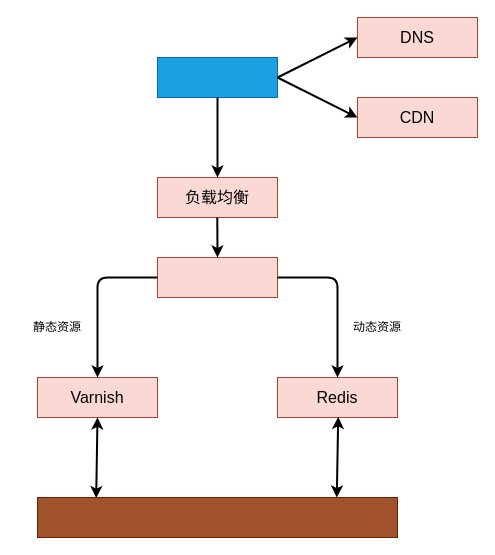
This 495x555 diagram has some shape labels left out. Each missing label, with the box of its shape:
Nginx: (156, 256, 278, 298)
Tomat应用集群: (36, 496, 398, 538)
客户端: (156, 56, 278, 98)
